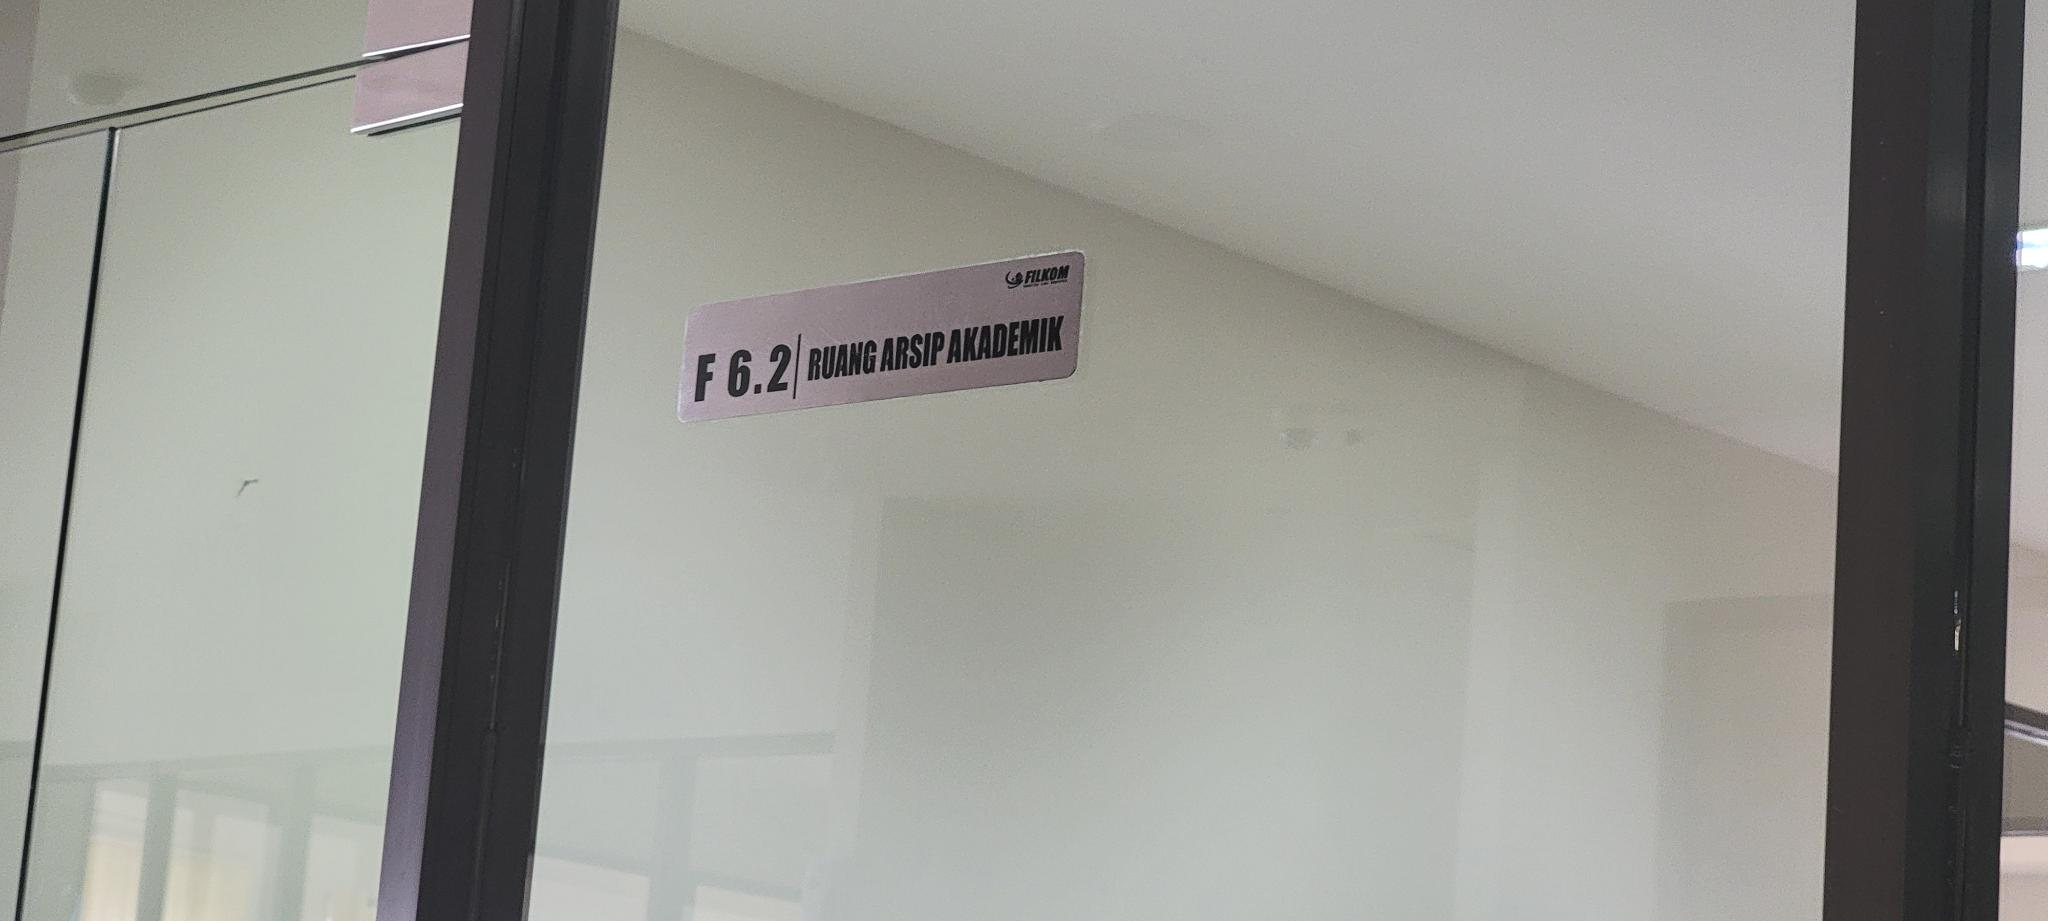plate: (677, 251, 1085, 426)
